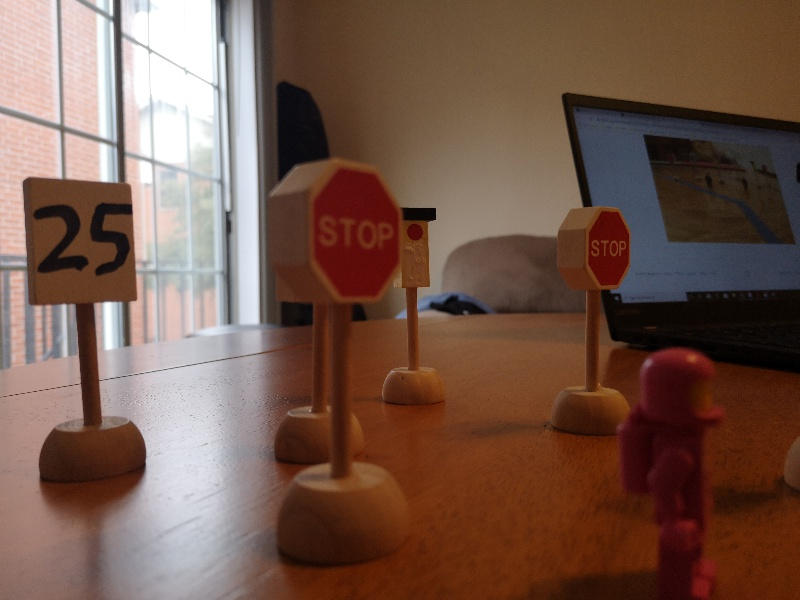Person: (619, 349, 725, 600)
Red Traffic Light: (398, 208, 438, 291)
Speed Limit 25: (19, 176, 141, 306)
Stop Sign: (267, 156, 401, 306), (555, 207, 634, 295)
